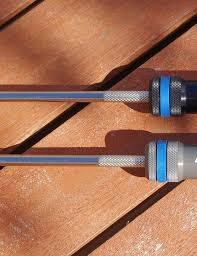screwdriver: (0, 137, 195, 181), (0, 74, 195, 117)
